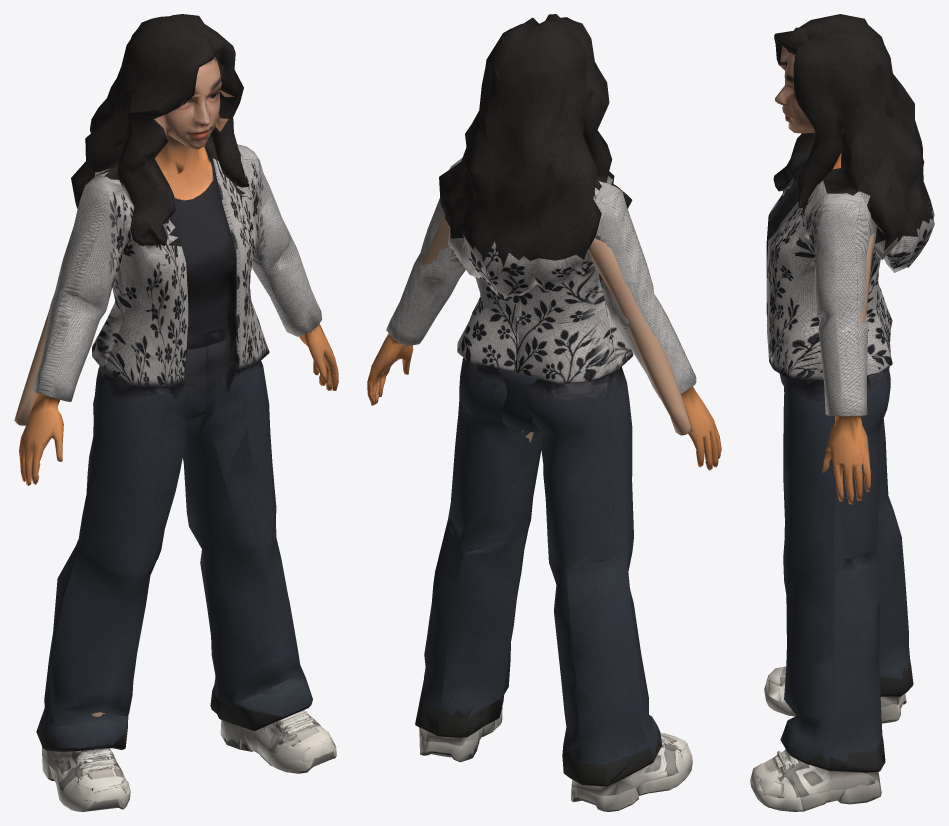
The model's file is Noura.glb.
3 renders of one model, left to right at view 1: azimuth 30°, elevation 25°; view 2: azimuth 150°, elevation 25°; view 3: azimuth 270°, elevation 25°, orthographic. The views are drawn at different scales.
Parts seen in each view (by area): view 1: Noura_Trousers, Noura_Cardigan, Noura_Hair, Noura_Body, Noura_Shoes, Noura_Top; view 2: Noura_Trousers, Noura_Hair, Noura_Cardigan, Noura_Body, Noura_Shoes; view 3: Noura_Trousers, Noura_Cardigan, Noura_Hair, Noura_Shoes, Noura_Body, Noura_Top.
Boxes of the visible parts, x1,y1,x2,y2 form: Noura_Trousers: (42,366,312,749); Noura_Cardigan: (32,144,322,401); Noura_Hair: (71,14,251,246); Noura_Body: (14,57,338,716); Noura_Shoes: (36,691,336,811); Noura_Top: (168,164,238,401); Noura_Trousers: (421,360,661,764); Noura_Hair: (439,14,632,266); Noura_Cardigan: (386,158,696,402); Noura_Body: (367,213,721,470); Noura_Shoes: (415,690,692,811); Noura_Trousers: (779,366,911,767); Noura_Cardigan: (766,177,934,416); Noura_Hair: (773,14,933,251); Noura_Shoes: (750,660,913,811); Noura_Body: (775,46,874,504); Noura_Top: (766,152,810,382).
Size of the model in its own units: 0.8161 by 1.78 by 0.4059.
Materials: 9 (6 with a texture image).
